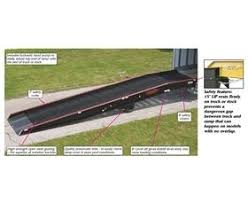Yard Ramp: (7, 69, 196, 135)
